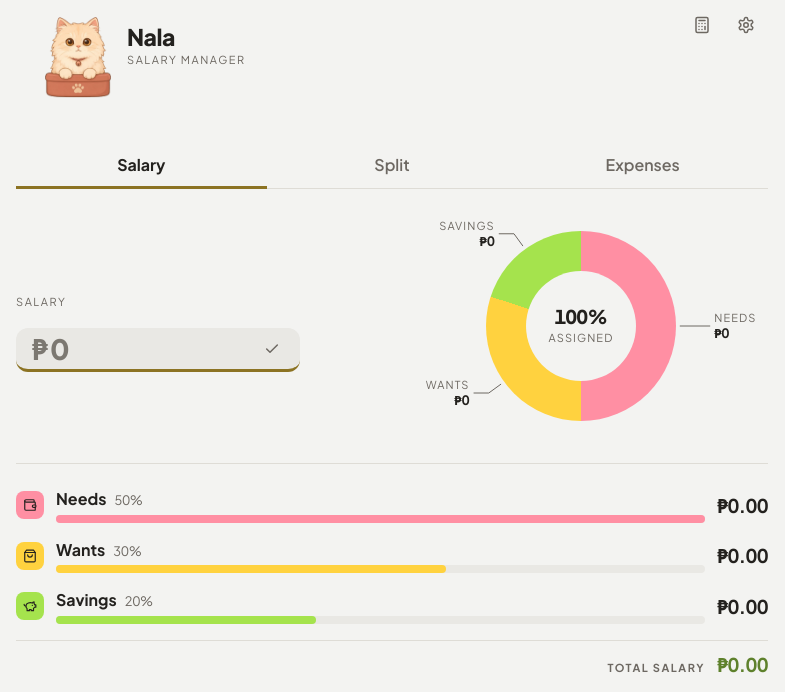
Test case: salary edits and paydays › saves a first salary without asking and locks it
The width and height of the screenshot is (785, 692).
Type "2000" into the field named "Take-home pay in pesos" at point(148, 348), box [50,334,246,363]
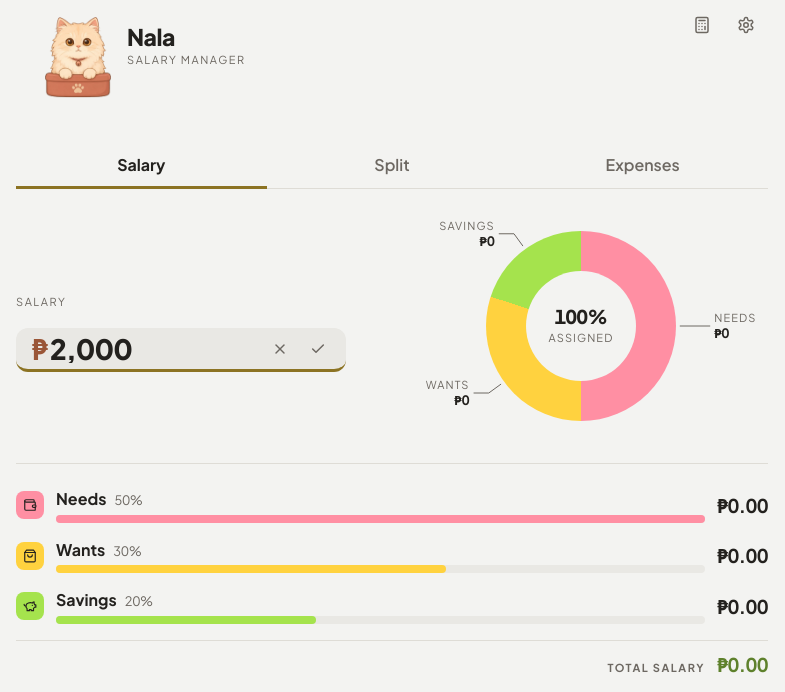
Click the button named "Save salary" at point(318, 348), box [296,326,340,370]
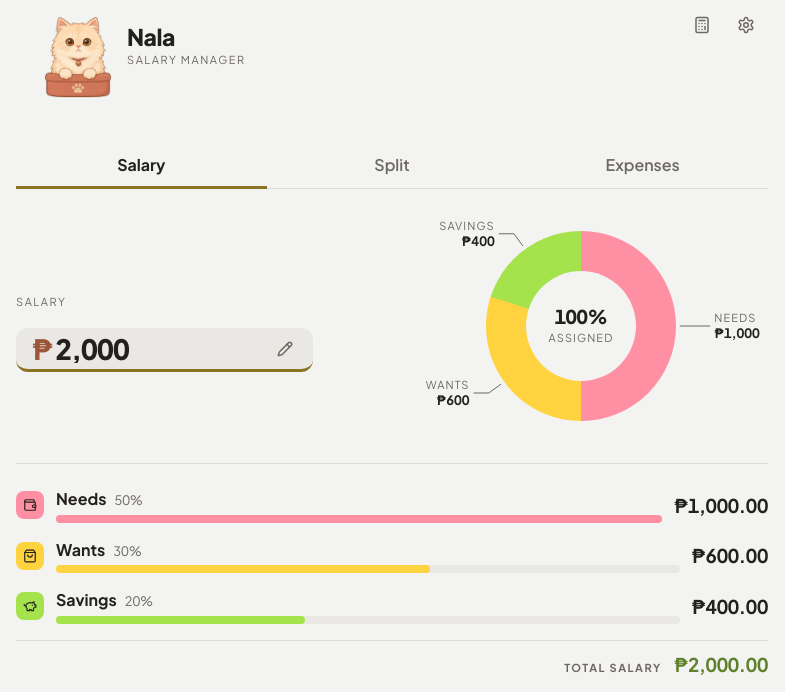
Check: the button named "Edit salary" is shown, box [263,326,307,370]
